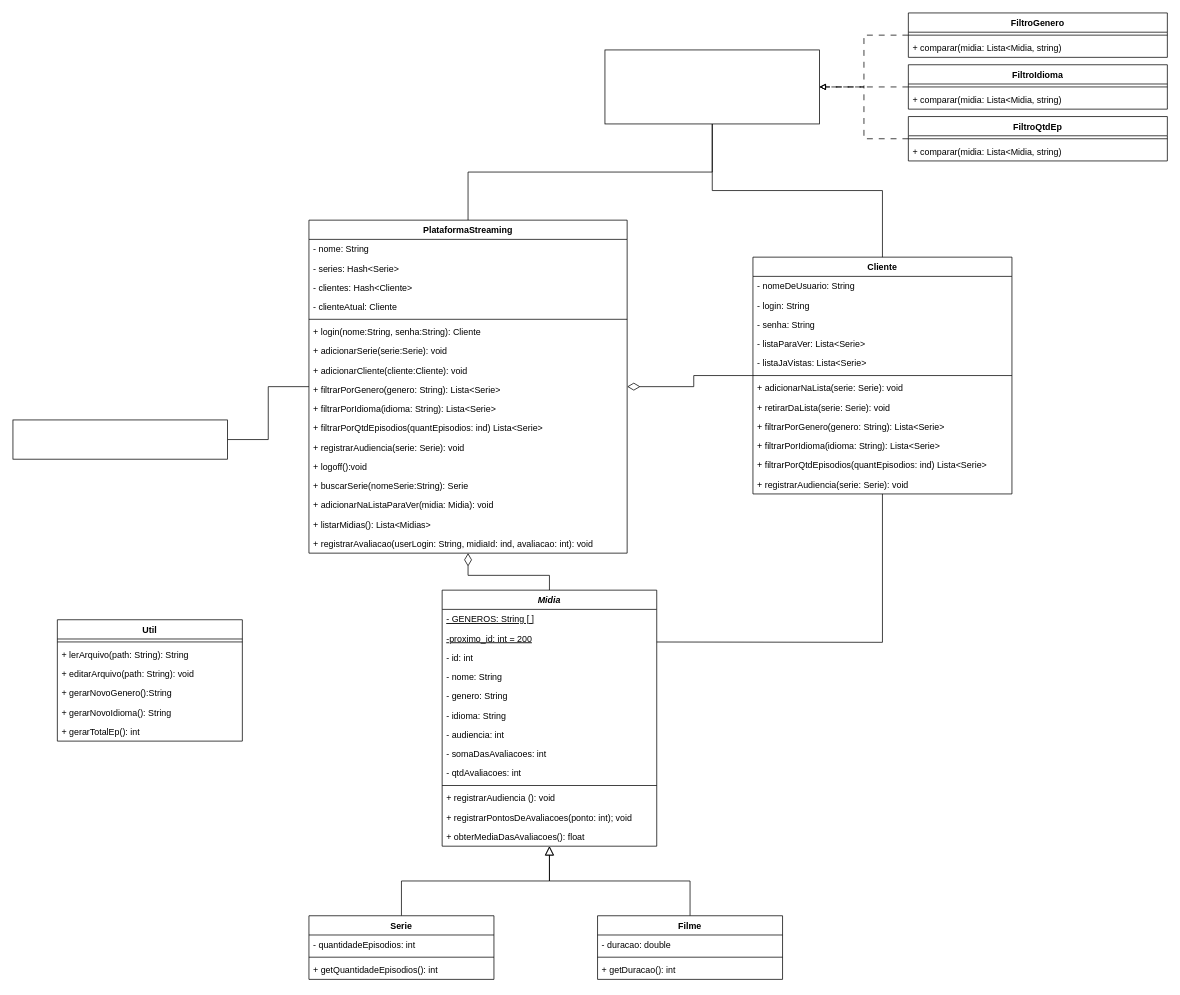
This 1180x995 diagram has some shape labels left out. Each missing label, with the centre of its shape:
"<<Interface>> IFILTRO + comparar(midia: Lista<Midia, string)" belongs at point 712,86.
"DAO + salvar (path: String, CSV: String): void" belongs at point 120,439.
